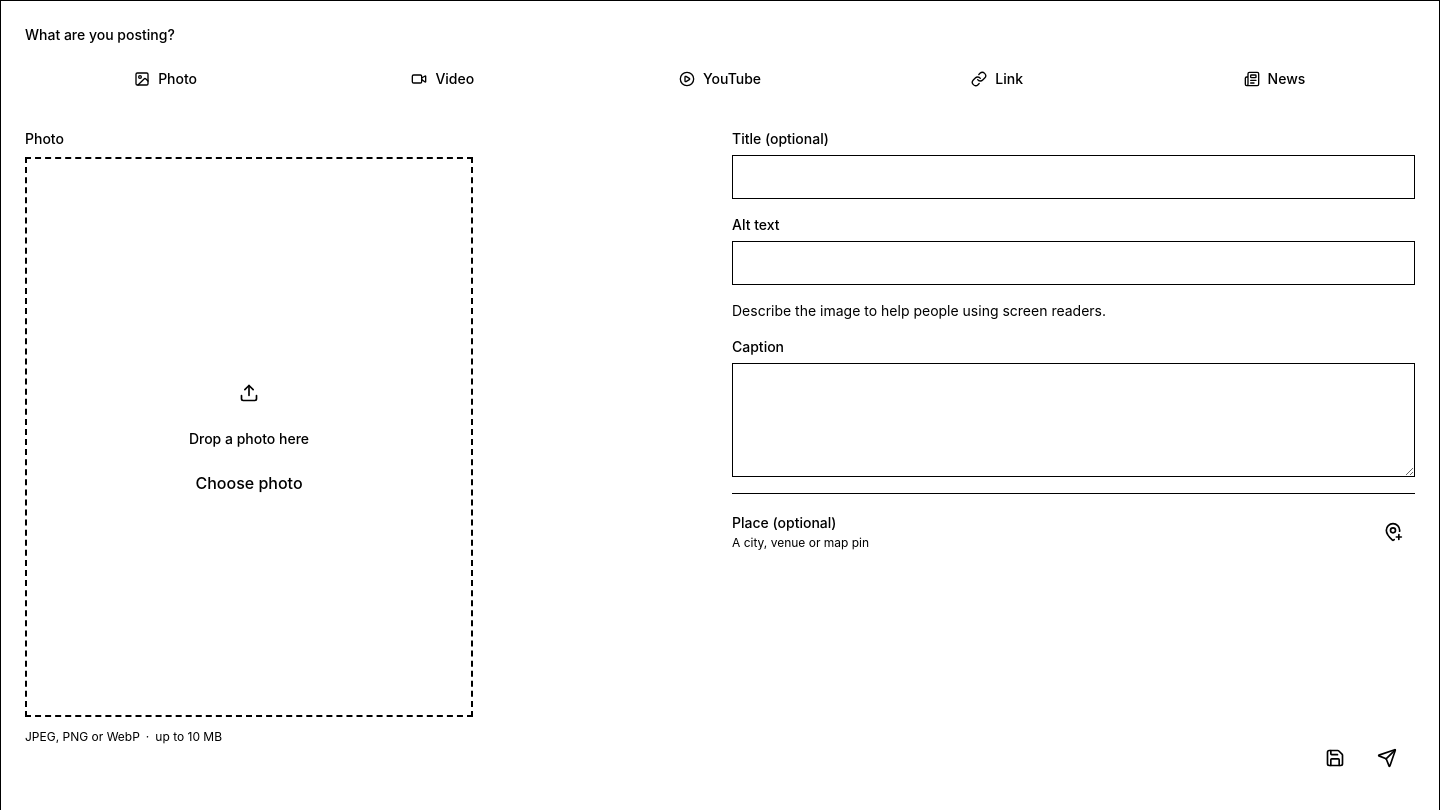
PostForm create › BH-6: Given deliberately cleared description, should keep it empty
Click the radio button labelled "Link" at (997, 78), box [971,70,1023,87]
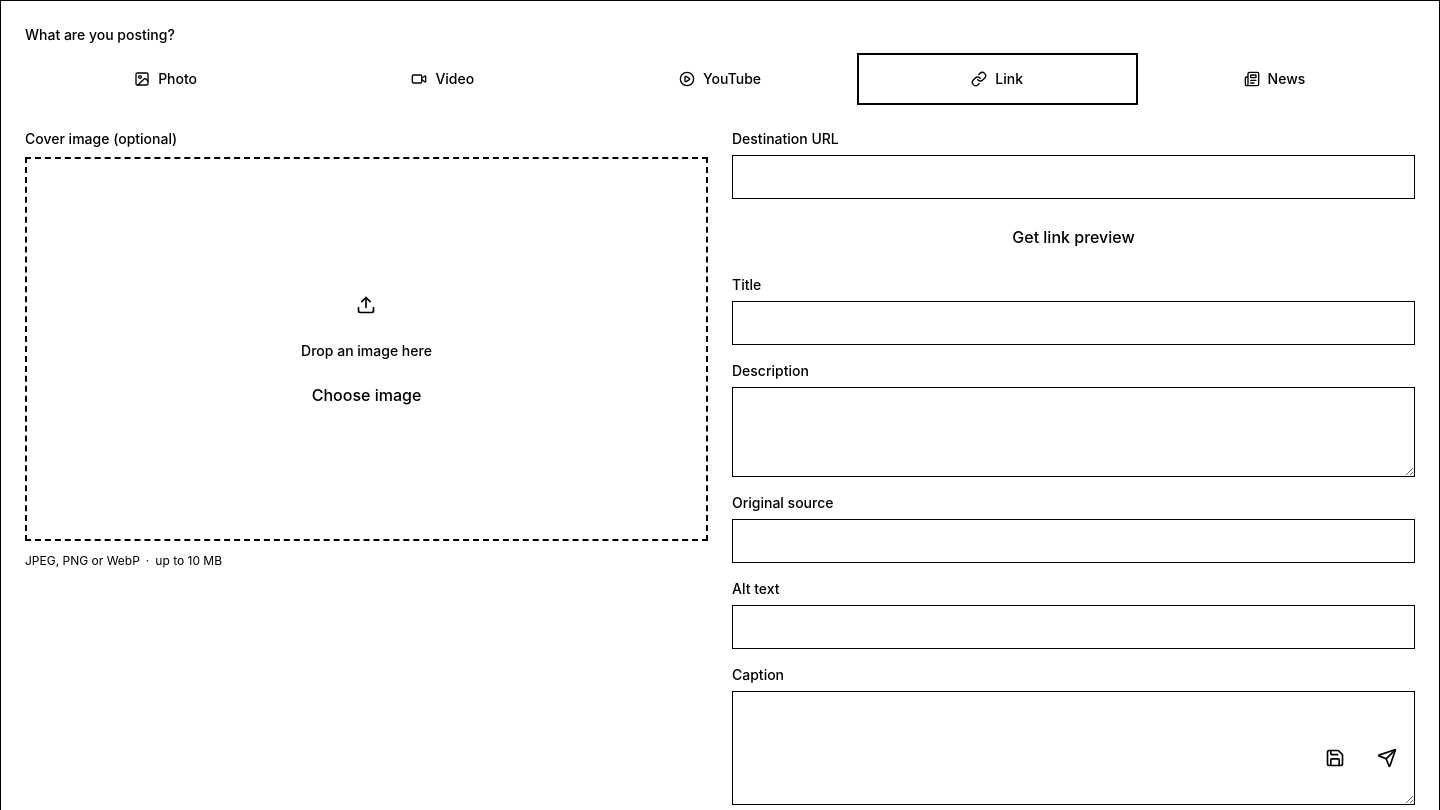
Type "https://first.test/article" into the field labelled "Destination URL" at (1074, 177), box [732,155,1415,199]
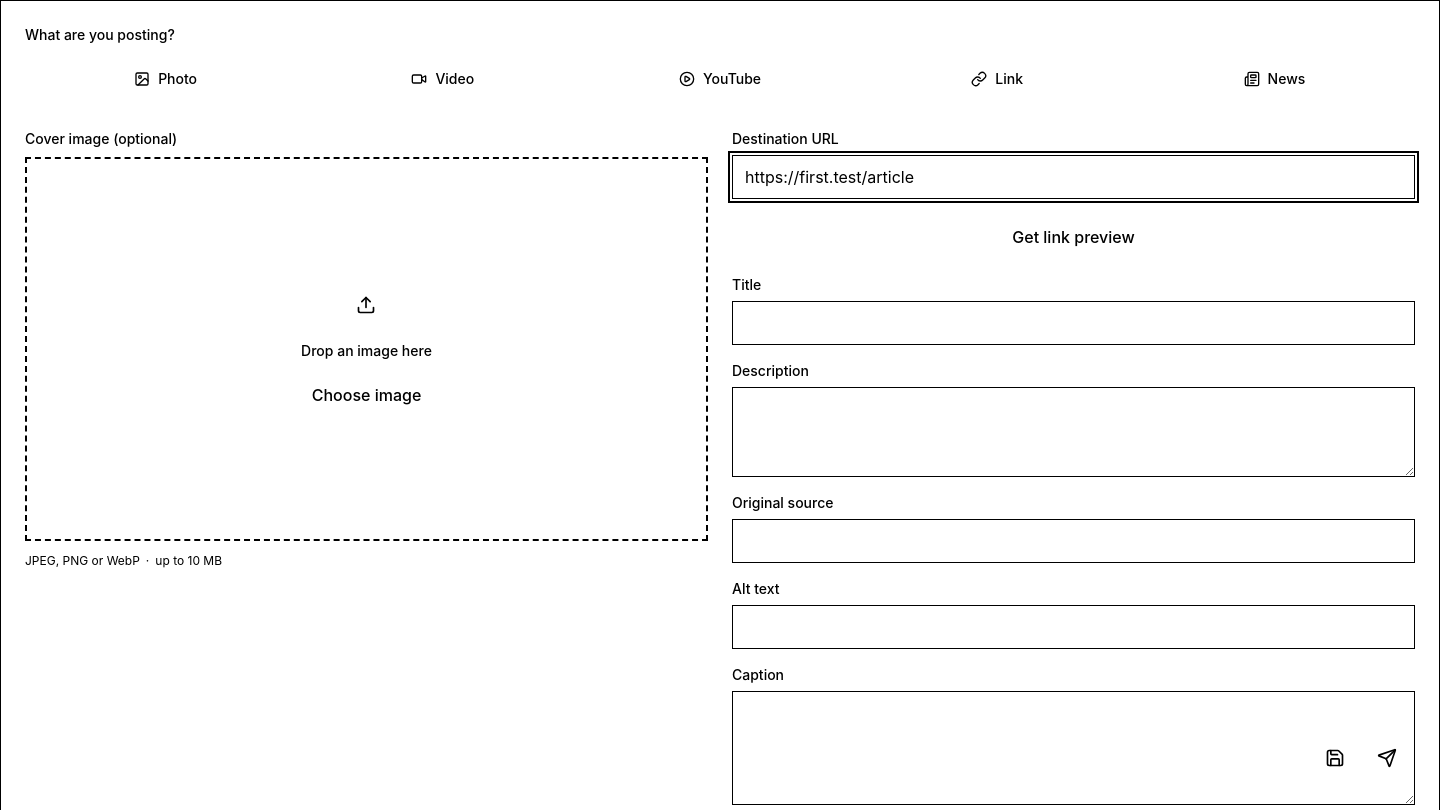
Click the button "Get link preview" at (1074, 237), box [732,215,1415,259]
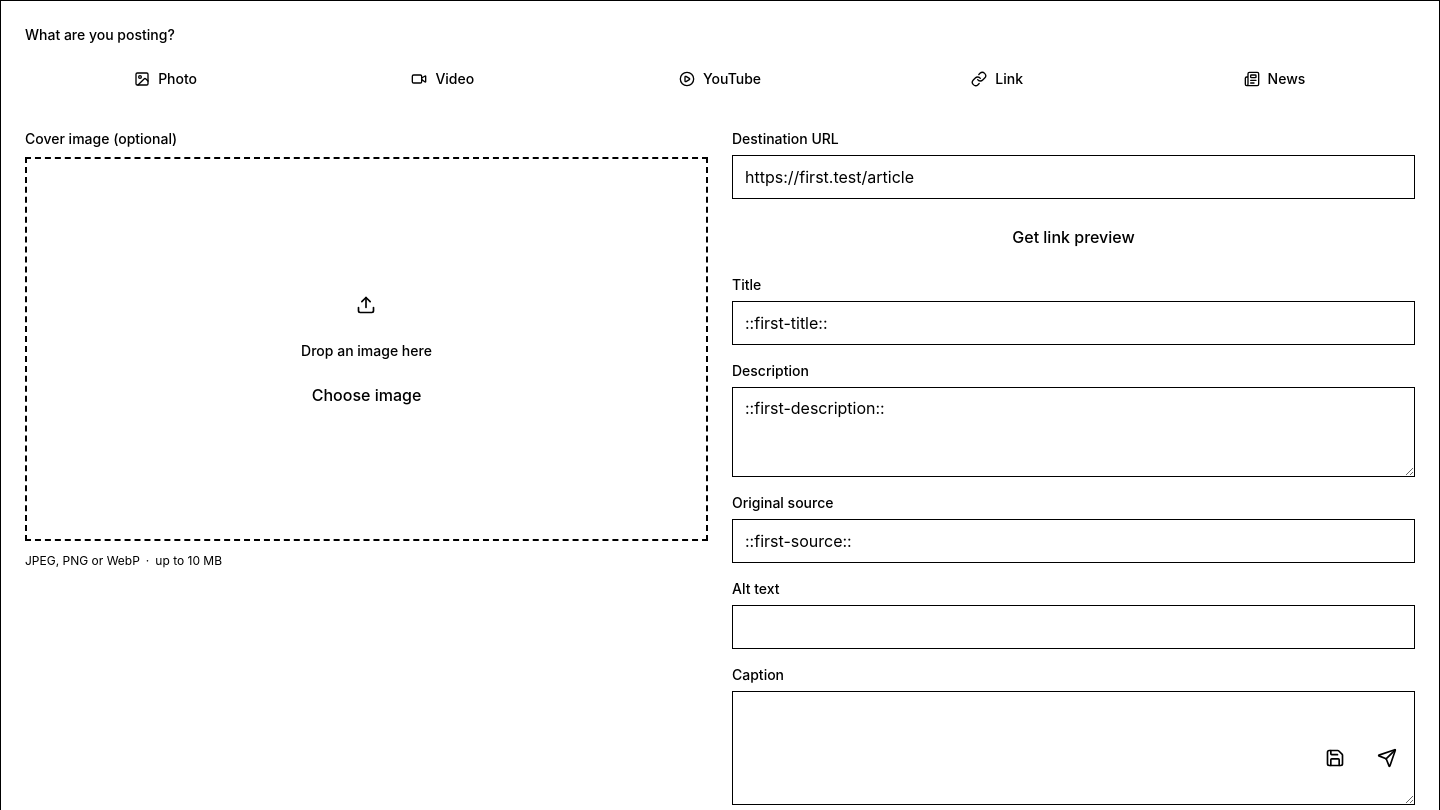
Check: the text box labelled "Description" holds "::first-description::"
Clear the text box labelled "Description" at (1074, 432), box [732,387,1415,477]
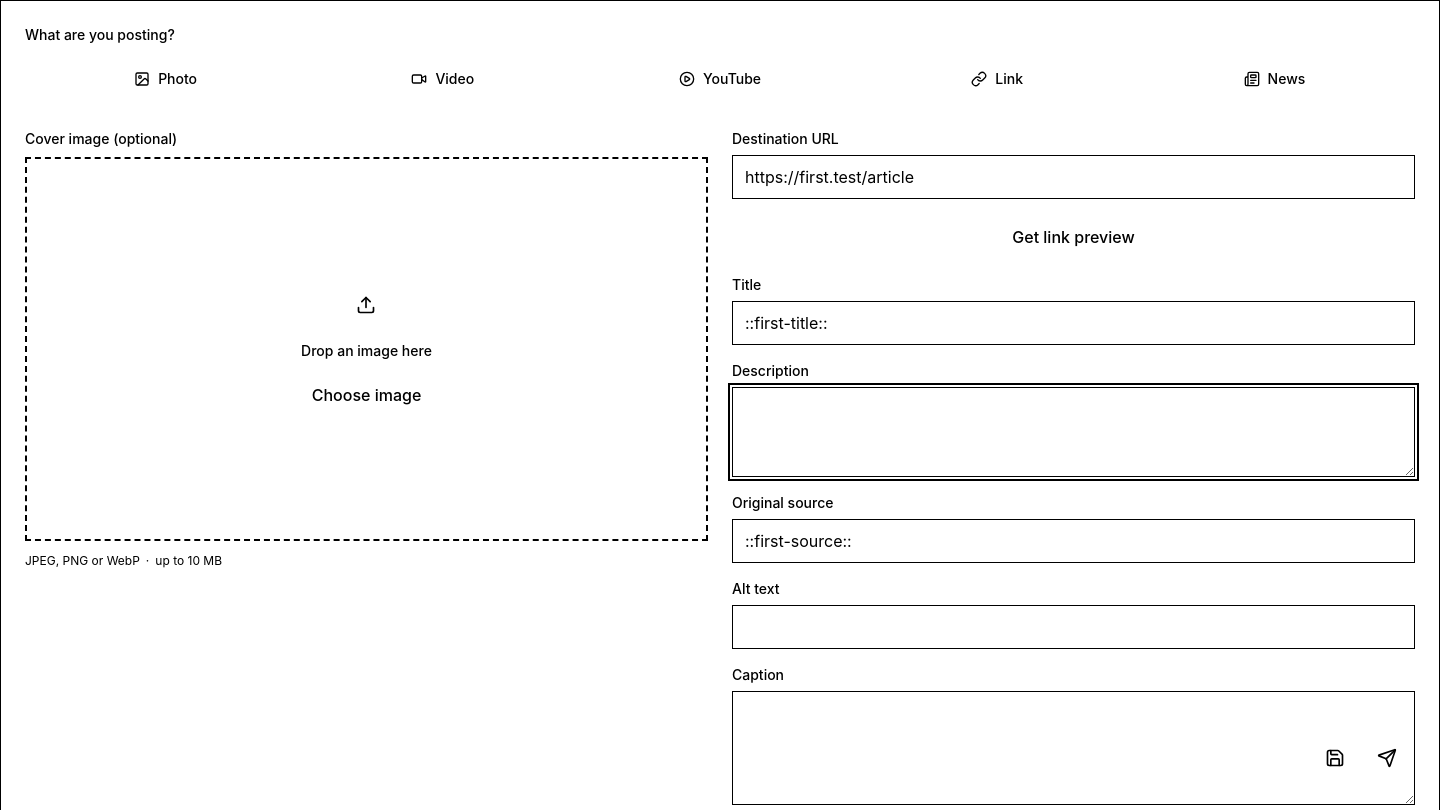
Replace the text in the field labelled "Destination URL" with "https://second.test/article" at (1074, 177), box [732,155,1415,199]
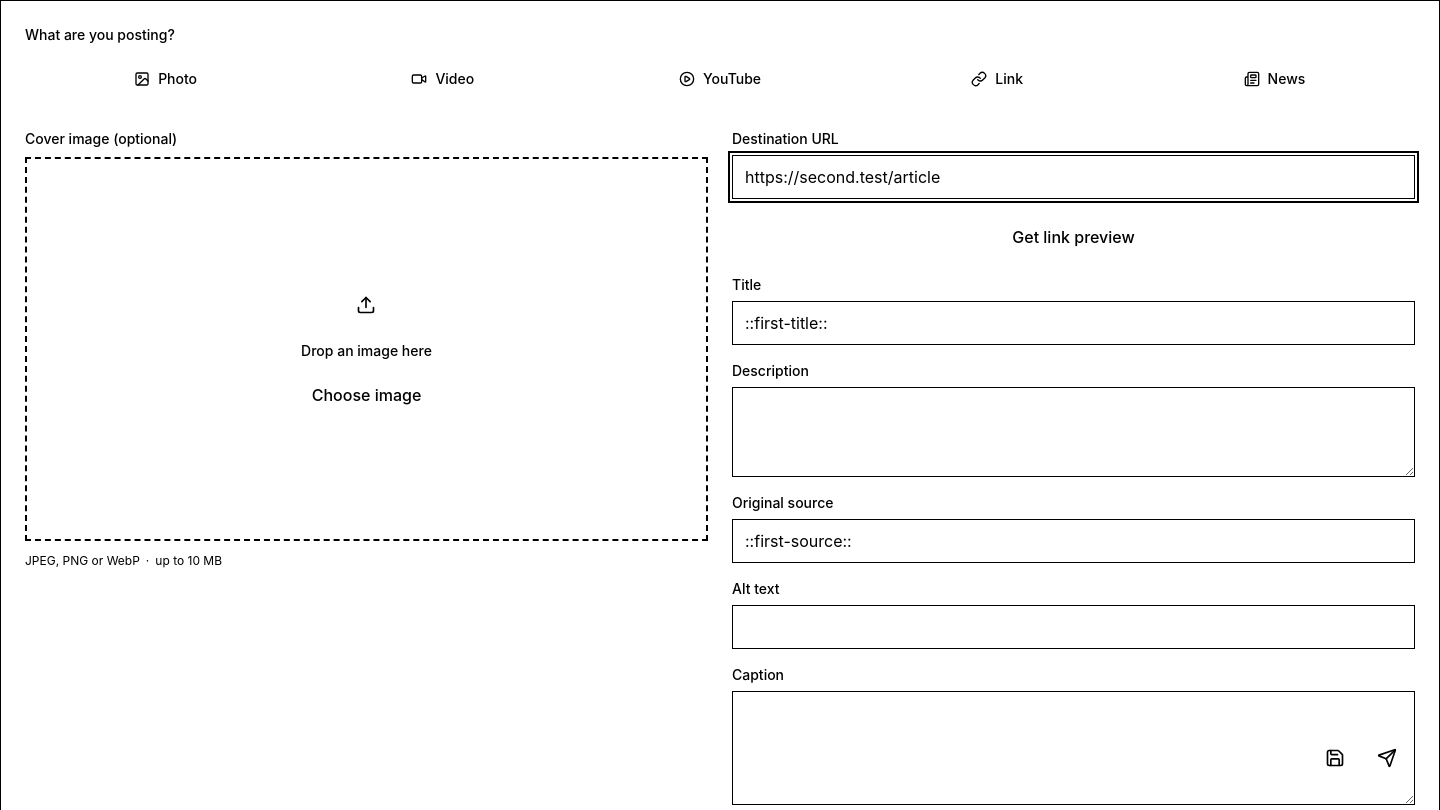
Click the button "Get link preview" at (1074, 237), box [732,215,1415,259]
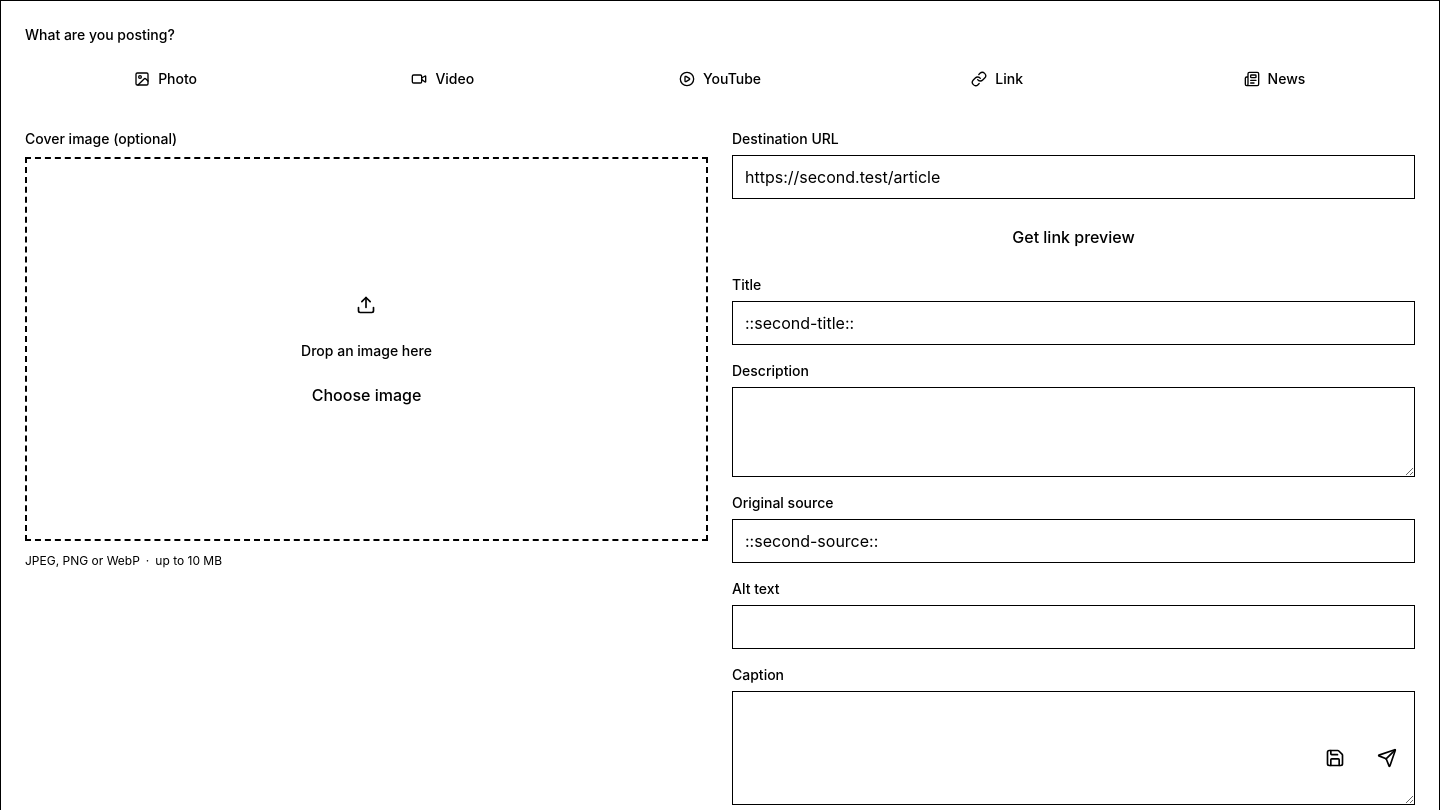
Check: the field labelled "Title" holds "::second-title::", box [732,301,1415,345]
